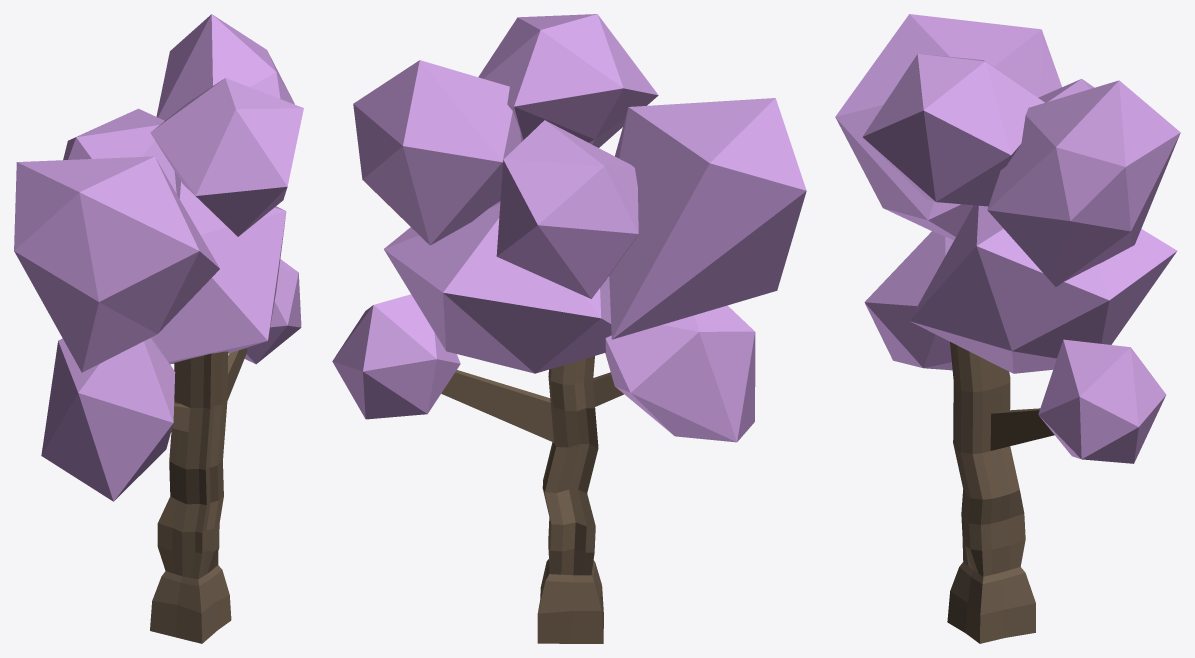
Rendered from low_poly_wood.fbx.
The picture shows the model from 3 angles, left to right: view 1: azimuth 30°, elevation 25°; view 2: azimuth 150°, elevation 25°; view 3: azimuth 270°, elevation 25°; orthographic projection. The views are drawn at different scales.
Parts seen in each view (by area): view 1: drzewo_1; view 2: drzewo_1; view 3: drzewo_1.
Boxes of the visible parts, <box> form: drzewo_1: <box>14,14,303,643</box>; drzewo_1: <box>332,14,806,643</box>; drzewo_1: <box>835,14,1180,643</box>.
Bounding box in the file's own units: 45.15 × 67.84 × 36.08.
